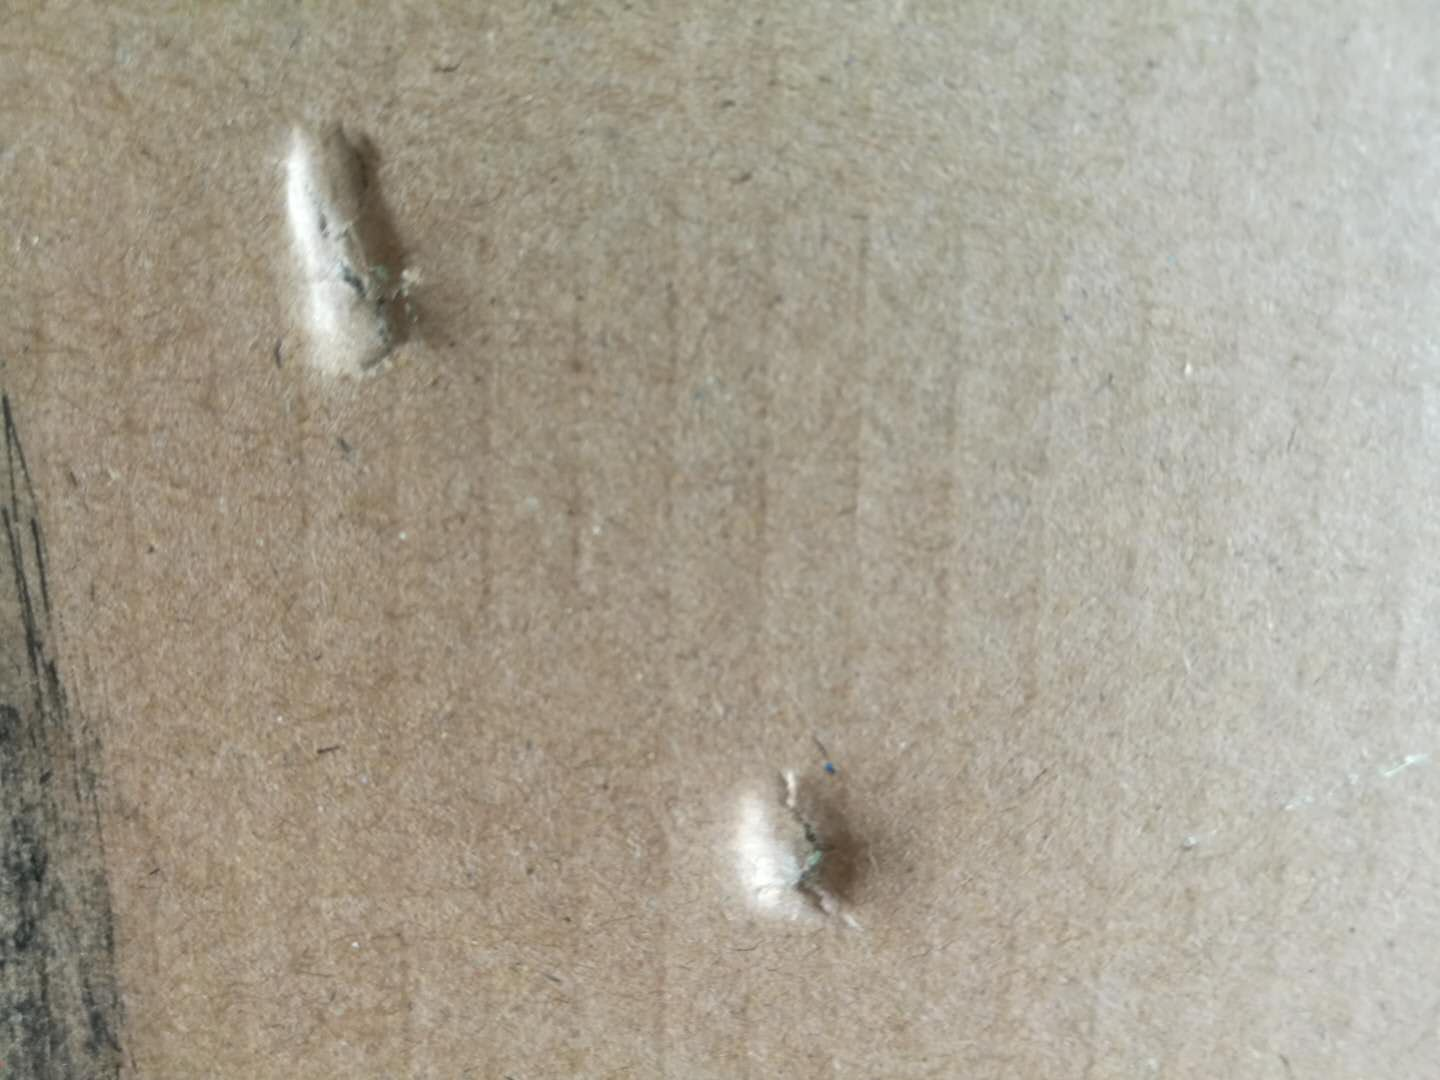defect: (1, 373, 172, 1080), (234, 102, 502, 427), (694, 725, 939, 970)
